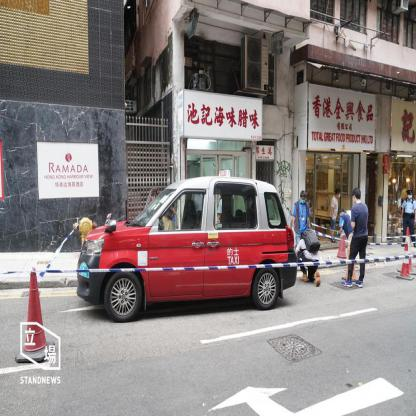taxi: (73, 169, 302, 329)
